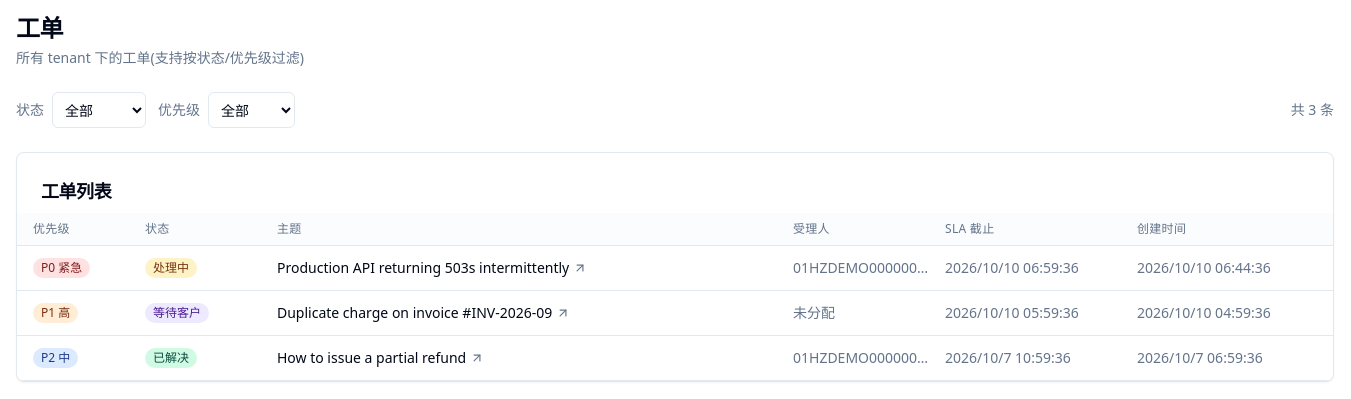
Test: AdminTicketsPage › filters by priority
Check: the button with test id "ticket-row-01HZTCK0000000000000001" is shown, box [17, 246, 1333, 291]
Select "P2 中" in the dropdown with test id "tickets-filter-priority": (252, 110) [208, 92, 295, 128]
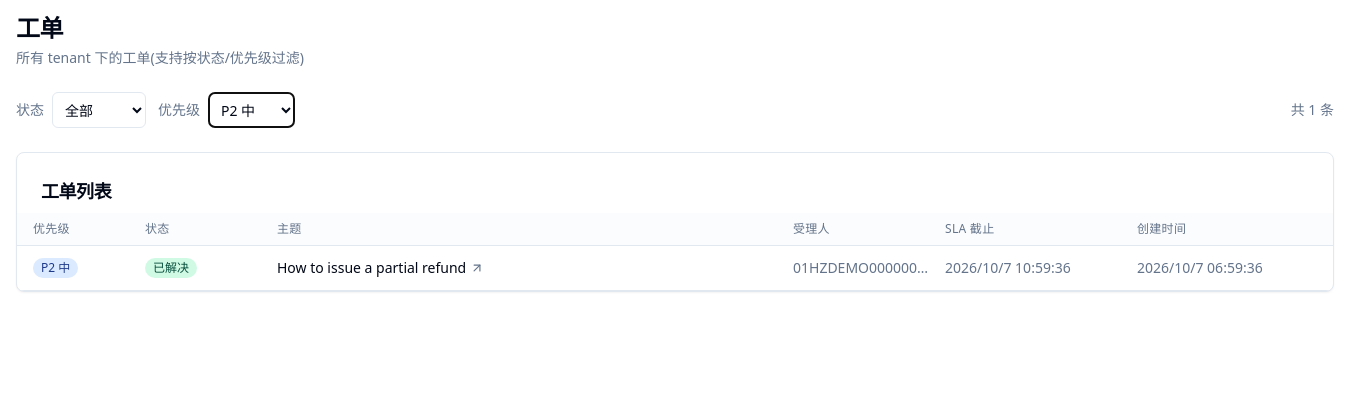
Check: the button with test id "ticket-row-01HZTCK0000000000000003" is shown, box [17, 246, 1333, 291]
Check: the button with test id "ticket-row-01HZTCK0000000000000001" is gone
Check: the button with test id "ticket-row-01HZTCK0000000000000002" is gone
